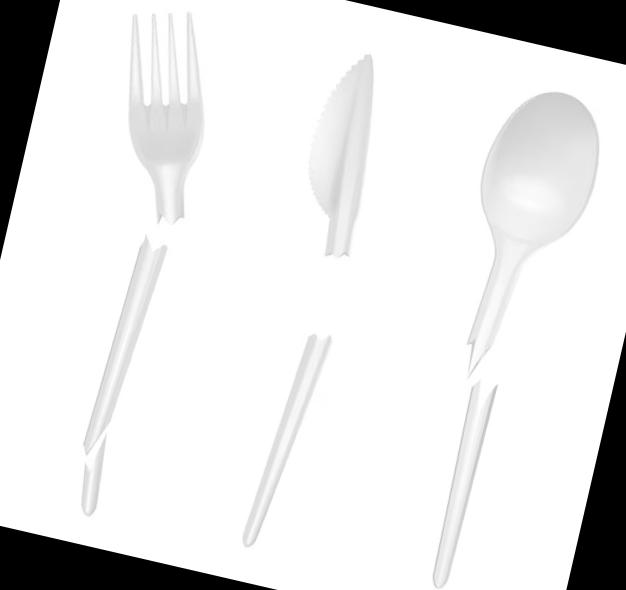Plastik: (469, 93, 598, 372), (243, 335, 330, 546), (129, 14, 203, 224)
